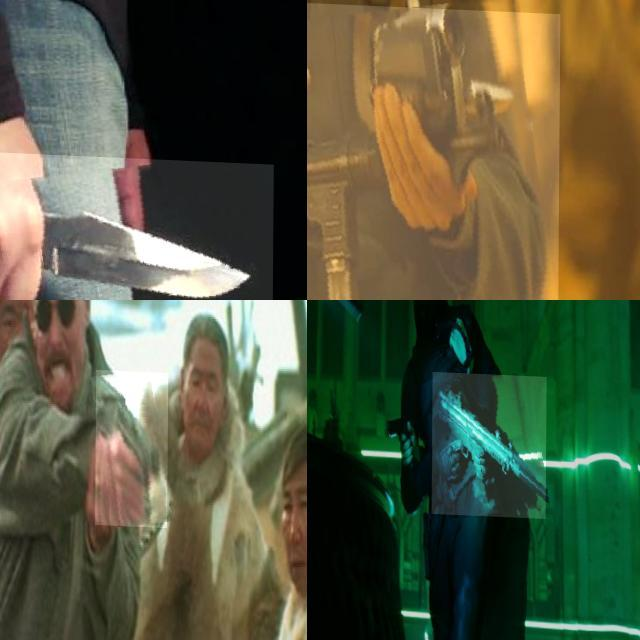-: (0, 149, 274, 300)
gun-knife-thesis - v11 Yolov5 augmented: (307, 0, 560, 300), (432, 368, 547, 514), (95, 367, 168, 525), (386, 398, 418, 463)
